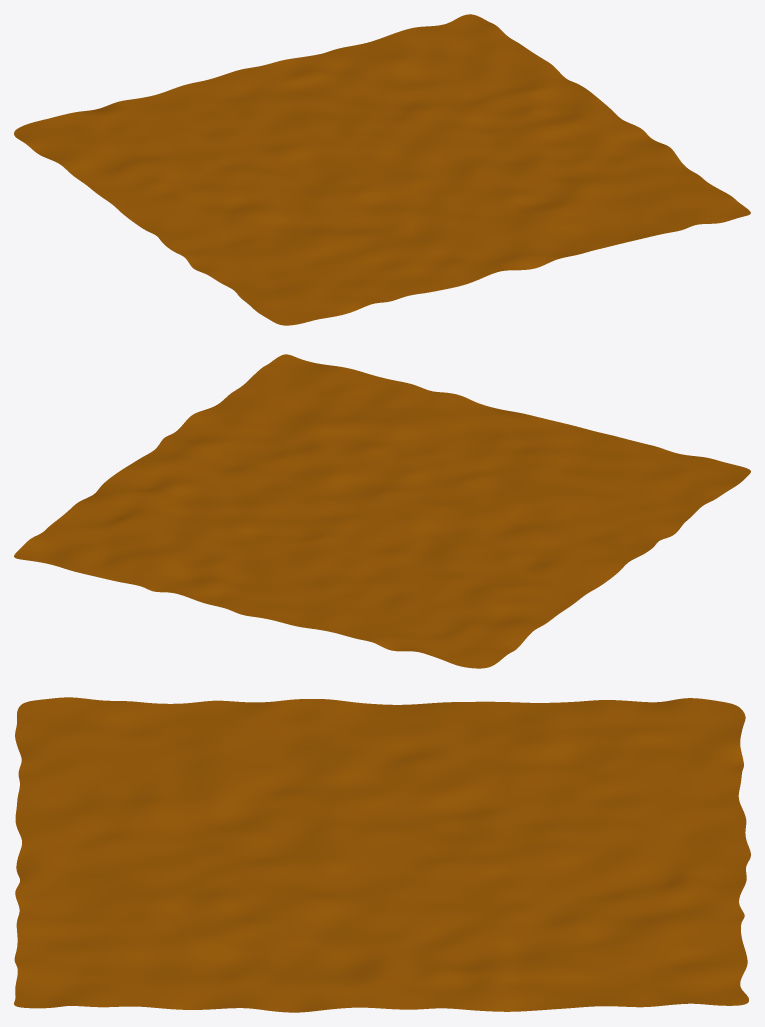
The model's file is sand.obj.
3 renders of one model, top to bottom at view 1: azimuth 30°, elevation 25°; view 2: azimuth 150°, elevation 25°; view 3: azimuth 270°, elevation 25°, orthographic. The views are drawn at different scales.
Parts seen in each view (by area): view 1: Sand; view 2: Sand; view 3: Sand.
Boxes of the visible parts, x1,y1,x2,y2 form: Sand: (14, 14, 750, 325); Sand: (14, 354, 750, 668); Sand: (14, 697, 750, 1012).
Bounding box in the file's own units: 30 × 0.3078 × 30.
